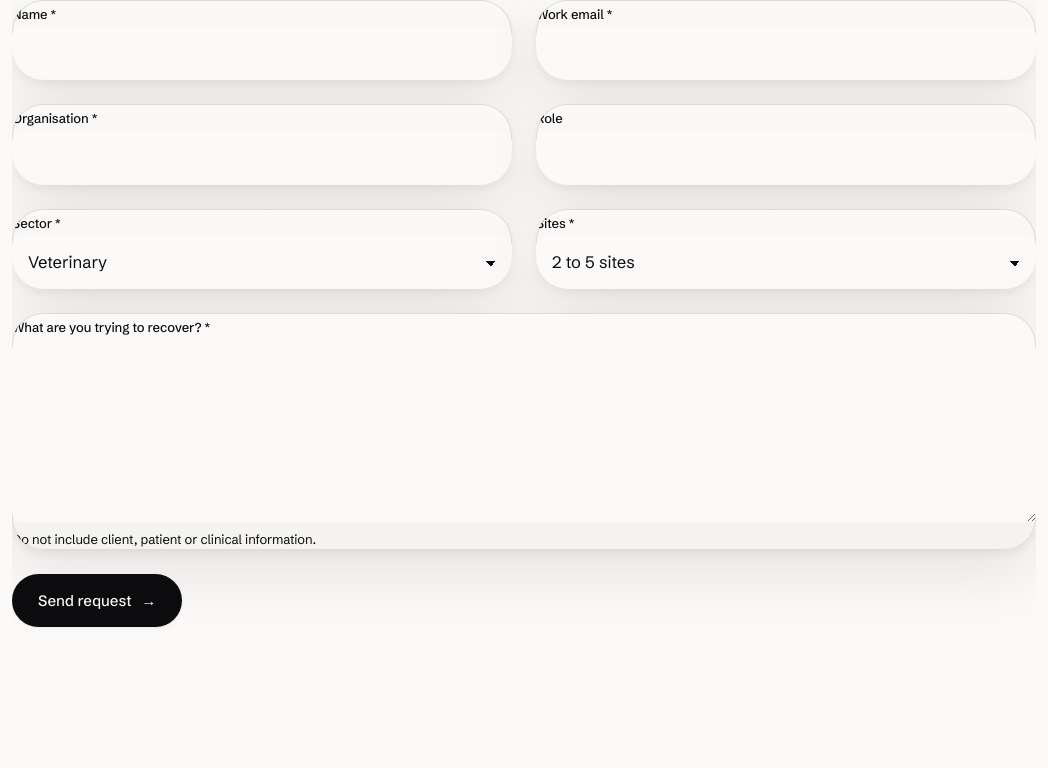
Test case: AssessmentForm — configured › never claims success when no provider is configured server-side
Type "Jordan Ellis" into the field labelled "Name *" at point(262, 53), box left=12, top=26, right=512, bottom=80
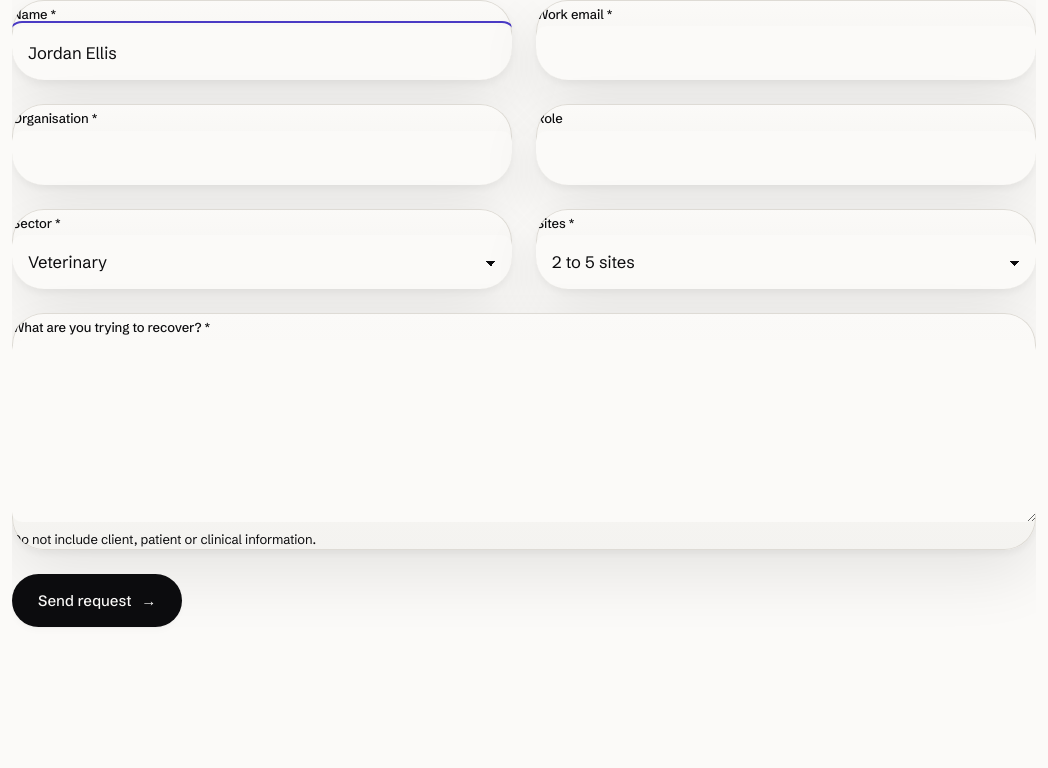
Type "jordan@example.com" into the field labelled "Work email *" at point(786, 53), box left=536, top=26, right=1036, bottom=80
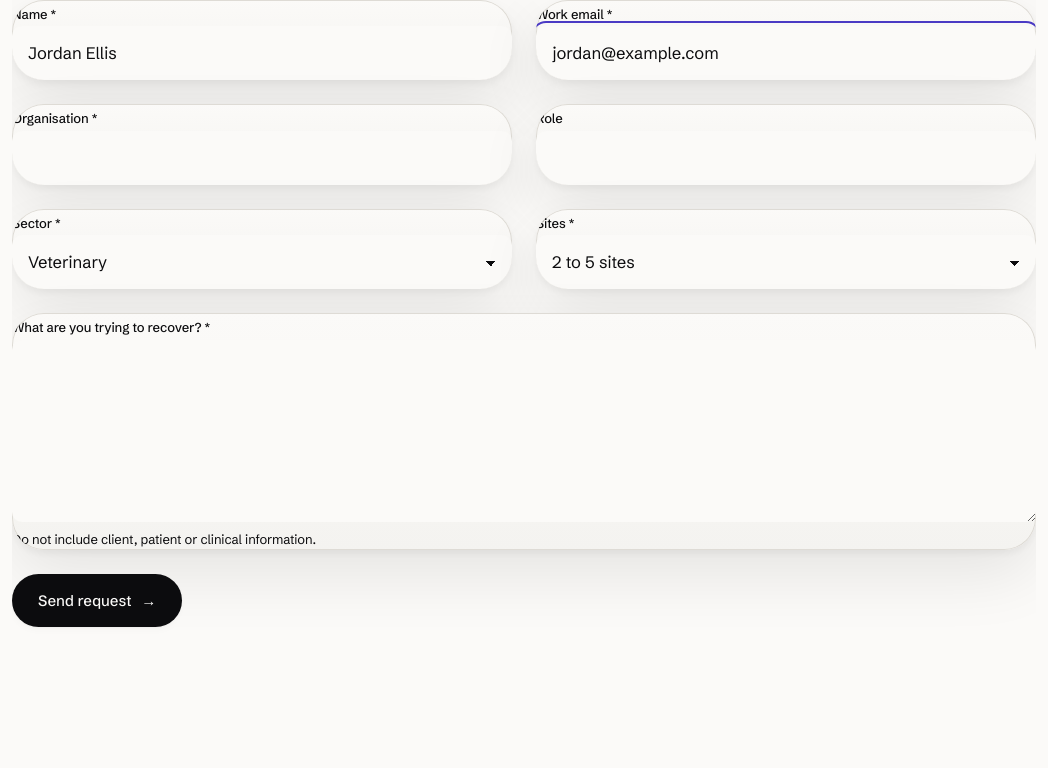
Type "Northgate Veterinary Group" into the field labelled "Organisation *" at point(262, 158), box left=12, top=131, right=512, bottom=185
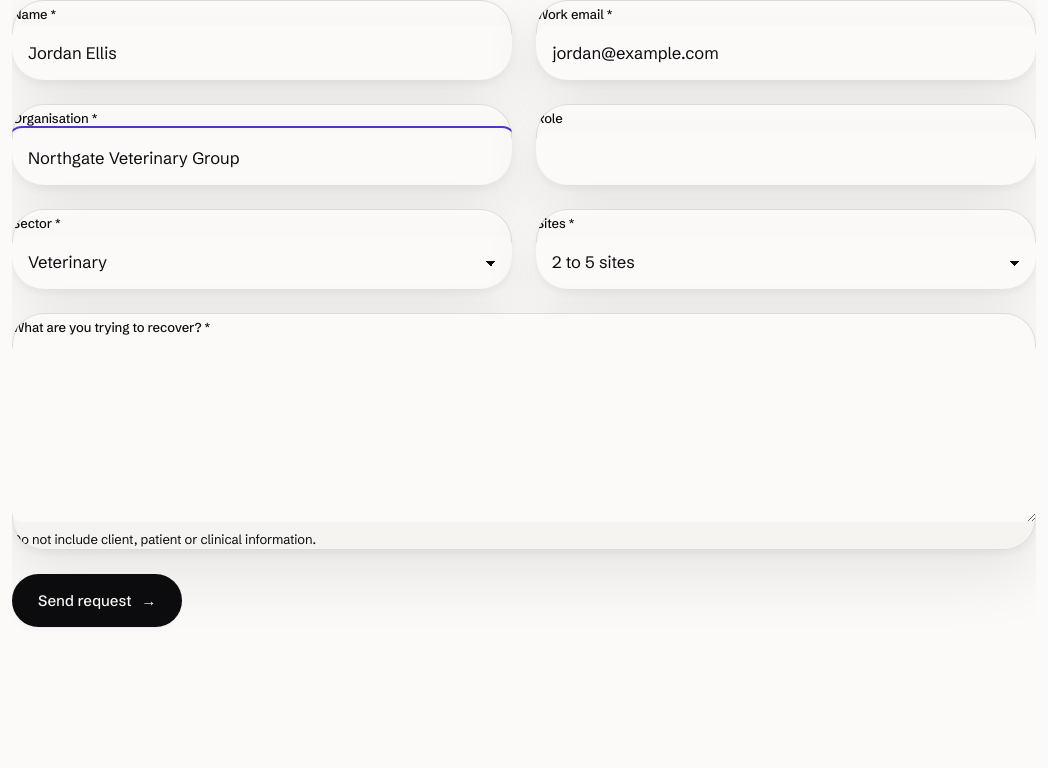
Type "We believe we are losing after-hours calls across four sites." into the text box labelled "What are you trying to recover? *" at point(524, 431), box left=12, top=340, right=1036, bottom=522
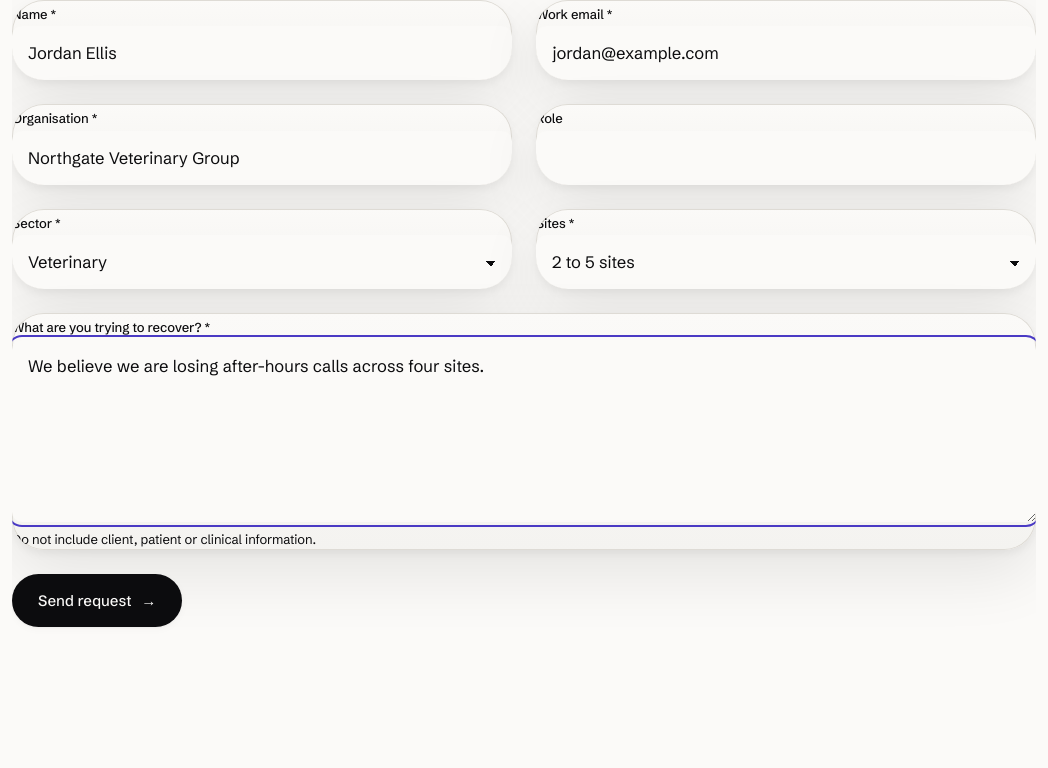
Click the button "Send request →" at point(97, 601), box left=12, top=574, right=182, bottom=627
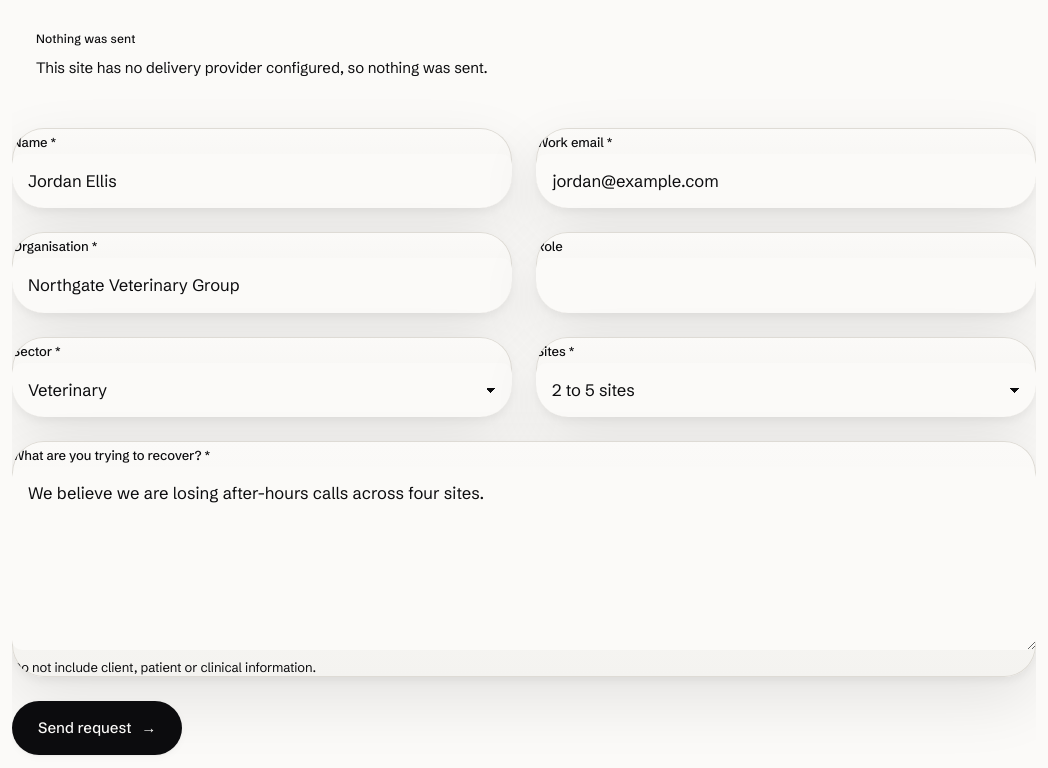
Expected: the button "Send request →" is shown, left=12, top=701, right=182, bottom=755
Expected: the message shows "Nothing was sent", left=36, top=31, right=136, bottom=46
